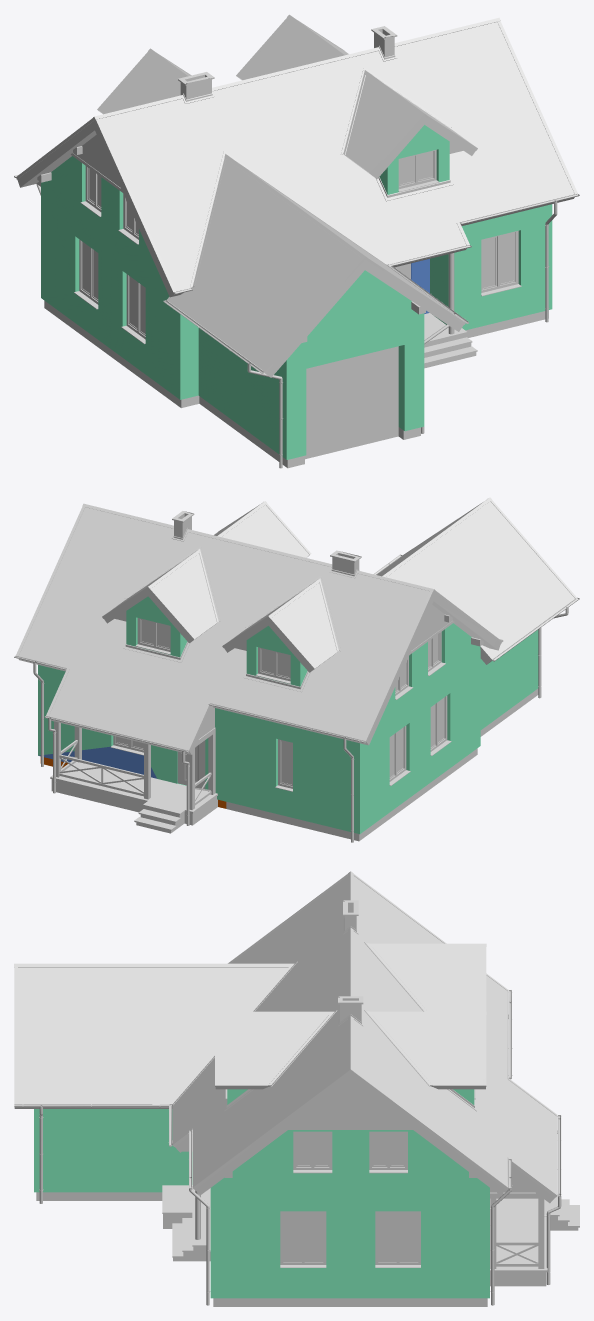
The model's file is CASA-OBJ.glb.
The picture shows the model from 3 angles, top to bottom: view 1: azimuth 30°, elevation 25°; view 2: azimuth 150°, elevation 25°; view 3: azimuth 270°, elevation 25°; orthographic projection. The views are drawn at different scales.
Parts seen in each view (by area): view 1: House, House.001; view 2: House, House.001; view 3: House, House.001.
Part boxes in pixels (<box>): House: <box>14,14,579,468</box>; House.001: <box>183,27,466,341</box>; House: <box>14,497,579,842</box>; House.001: <box>38,511,357,808</box>; House: <box>14,871,579,1306</box>; House.001: <box>192,901,362,1245</box>.
Size of the model in its own units: 12.49 by 7.63 by 15.02.
